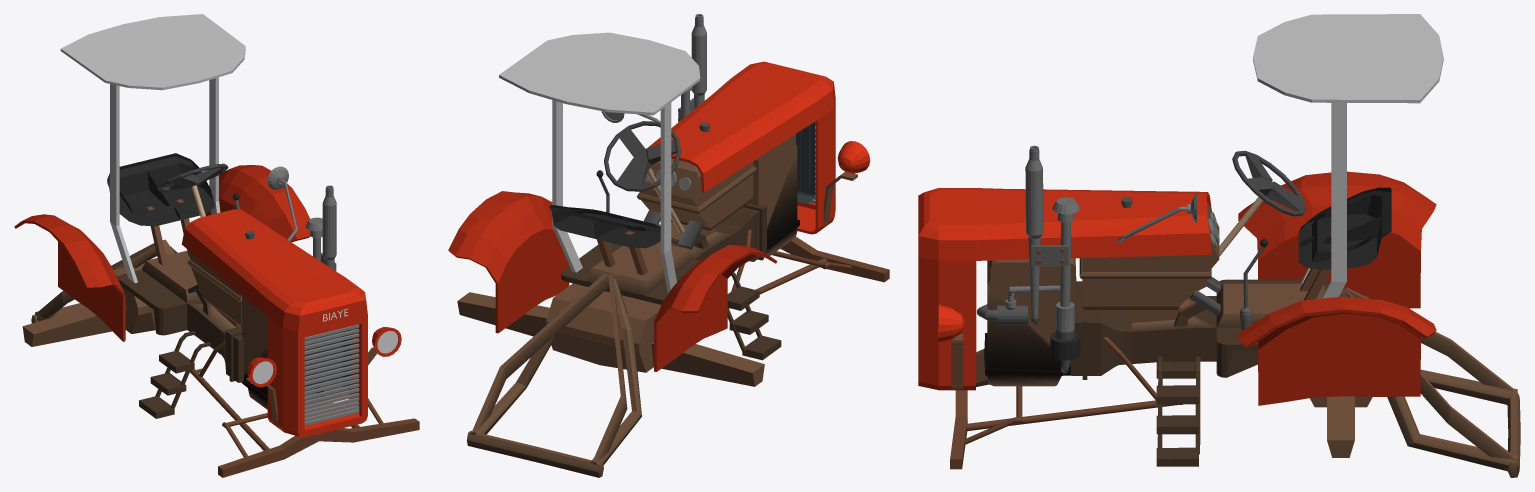
The model's file is tractor_body.fbx.
3 renders of one model, left to right at view 1: azimuth 30°, elevation 25°; view 2: azimuth 150°, elevation 25°; view 3: azimuth 270°, elevation 25°, orthographic. The views are drawn at different scales.
Parts seen in each view (by area): view 1: Capot, Chassis, Pare soleil, Garde boue, Marche, Echappement, Radiateur, Volant; view 2: Chassis, Garde boue, Capot, Pare soleil, Volant, Marche, Radiateur, Echappement; view 3: Chassis, Garde boue, Capot, Pare soleil, Echappement, Marche, Volant.
Part boxes in pixels (x1,y1,x2,y2): Capot: (181,166,401,437); Chassis: (22,153,419,477); Pare soleil: (60,14,245,282); Garde boue: (14,165,310,341); Marche: (139,331,210,418); Echappement: (306,185,336,271); Radiateur: (304,329,351,400); Volant: (157,163,228,191); Chassis: (457,122,889,477); Garde boue: (448,191,777,371); Capot: (601,61,870,234); Pare soleil: (499,32,700,293); Volant: (604,121,681,191); Marche: (727,272,781,360); Radiateur: (796,122,815,203); Echappement: (678,14,706,121); Chassis: (950,187,1520,477); Garde boue: (1238,171,1436,405); Capot: (918,188,1212,390); Pare soleil: (1253,14,1443,298); Echappement: (977,145,1080,373); Marche: (1156,356,1200,466); Volant: (1232,150,1306,216).
Bounding box in the file's own units: 115 × 126 × 179.
2 materials, 2 textured.
